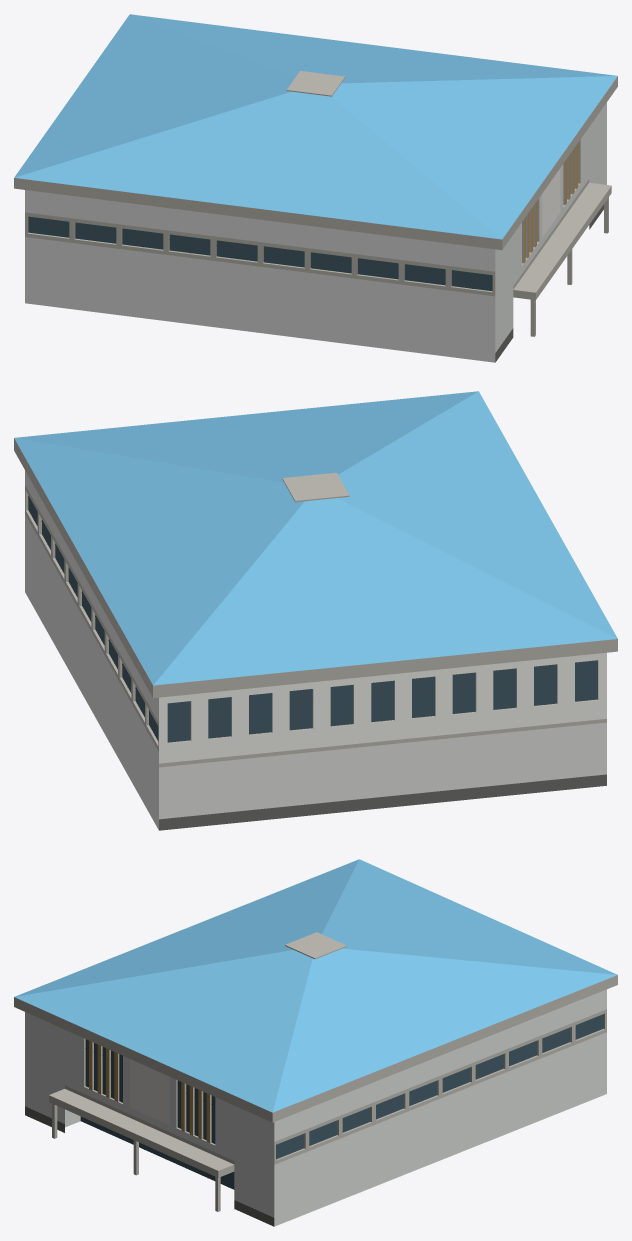
3 views of the same model, one above another, from view 1: azimuth 30°, elevation 25°; view 2: azimuth 150°, elevation 25°; view 3: azimuth 270°, elevation 25° (orthographic). The views are drawn at different scales.
Visible parts, largest first — view 1: hall2__roof-metal, hall2__hall-charcoal, hall2__trim-concrete, hall2__glass, hall2__wall-plaster, hall2__frame, hall2__connector-ochre; view 2: hall2__roof-metal, hall2__brick, hall2__wall-plaster, hall2__trim-concrete, hall2__hall-charcoal, hall2__glass, hall2__base-stone, hall2__frame; view 3: hall2__roof-metal, hall2__hall-charcoal, hall2__trim-concrete, hall2__glass, hall2__wall-plaster, hall2__connector-ochre, hall2__base-stone, hall2__frame.
Boxes of the visible parts, bbox=[...] form: hall2__roof-metal: bbox=[14, 14, 617, 239]; hall2__hall-charcoal: bbox=[25, 102, 606, 362]; hall2__trim-concrete: bbox=[14, 71, 617, 336]; hall2__glass: bbox=[28, 216, 492, 291]; hall2__wall-plaster: bbox=[542, 168, 560, 236]; hall2__frame: bbox=[28, 142, 578, 288]; hall2__connector-ochre: bbox=[524, 143, 578, 262]; hall2__roof-metal: bbox=[14, 391, 617, 685]; hall2__brick: bbox=[159, 722, 606, 819]; hall2__wall-plaster: bbox=[159, 652, 606, 763]; hall2__trim-concrete: bbox=[14, 438, 617, 767]; hall2__hall-charcoal: bbox=[25, 470, 158, 829]; hall2__glass: bbox=[28, 495, 597, 742]; hall2__base-stone: bbox=[159, 774, 606, 830]; hall2__frame: bbox=[28, 497, 597, 741]; hall2__roof-metal: bbox=[14, 859, 617, 1112]; hall2__hall-charcoal: bbox=[25, 989, 606, 1226]; hall2__trim-concrete: bbox=[14, 932, 617, 1211]; hall2__glass: bbox=[81, 1014, 603, 1189]; hall2__wall-plaster: bbox=[129, 1059, 169, 1124]; hall2__connector-ochre: bbox=[89, 1040, 209, 1142]; hall2__base-stone: bbox=[25, 1106, 274, 1226]; hall2__frame: bbox=[80, 1018, 603, 1187].
Bounding box in the file's own units: 54.54 × 15.98 × 54.9.
